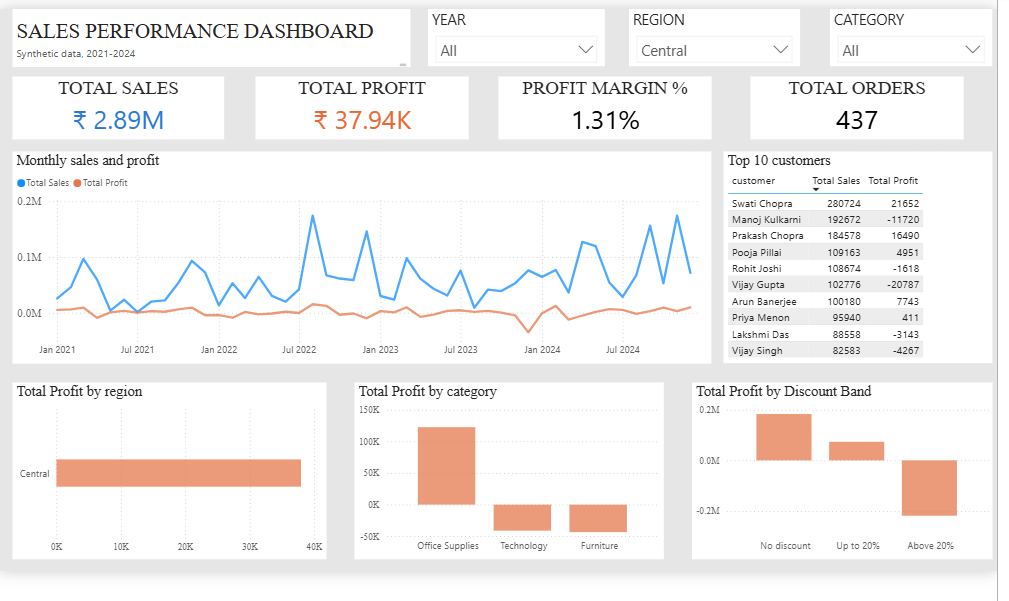

This screenshot's page, from the dashboard's own definition file:
{"tool":"powerbi","page":{"name":"Page 1","canvas":[1280,720],"ordinal":0},"visuals":[{"type":"card","title":"TOTAL SALES","fields":{"Values":["superstore_clean.Total Sales"]},"box":[17.3,86.5,271.2,80.8],"z":0},{"type":"card","title":"TOTAL PROFIT","fields":{"Values":["superstore_clean.Total Profit"]},"box":[328.8,86.5,273.1,80.8],"z":1000},{"type":"card","title":"PROFIT MARGIN %","fields":{"Values":["superstore_clean.Profit Margin %"]},"box":[640.4,86.5,273.1,80.8],"z":2000},{"type":"card","title":"TOTAL ORDERS","fields":{"Values":["superstore_clean.Total Orders"]},"box":[963.5,86.5,273.1,80.8],"z":3000},{"type":"textbox","title":"SALES PERFORMANCE DASHBOARD","box":[17.3,0,509.6,73.1],"z":4000},{"type":"lineChart","title":"Monthly sales and profit","fields":{"Y":["superstore_clean.Total Sales","superstore_clean.Total Profit"],"Category":["superstore_clean.month.Variation.Date Hierarchy.Year","superstore_clean.month.Variation.Date Hierarchy.Quarter","superstore_clean.month.Variation.Date Hierarchy.Month","superstore_clean.month.Variation.Date Hierarchy.Day"]},"box":[17,183.3,895.8,272.1],"z":5000},{"type":"clusteredBarChart","fields":{"Category":["superstore_clean.region"],"Y":["superstore_clean.Total Profit"]},"box":[17,478.1,402.5,226.8],"z":6000},{"type":"clusteredColumnChart","fields":{"Category":["superstore_clean.category"],"Y":["superstore_clean.Total Profit"]},"box":[455.4,478.1,396.9,226.8],"z":7000},{"type":"clusteredColumnChart","fields":{"Category":["superstore_clean.Discount Band"],"Y":["superstore_clean.Total Profit"]},"box":[888.2,478.1,385.5,226.8],"z":8000},{"type":"tableEx","title":"Top 10 customers","fields":{"Values":["superstore_clean.customer_name","superstore_clean.Total Sales","superstore_clean.Total Profit"]},"box":[928.2,183,344.7,271.5],"z":9000},{"type":"slicer","title":"YEAR","fields":{"Values":["superstore_clean.year"]},"box":[550,0,226.9,73.1],"z":10000},{"type":"slicer","title":"REGION","fields":{"Values":["superstore_clean.region"]},"box":[807.7,0,219.2,73.1],"z":12001},{"type":"slicer","title":"CATEGORY","fields":{"Values":["superstore_clean.category"]},"box":[1065.4,0,207.7,73.1],"z":12002}]}

Visuals, with their boxes in screenshot pixels (x1, y1, x2, y2):
"TOTAL SALES" card: (16, 88, 227, 151)
"TOTAL PROFIT" card: (258, 88, 471, 151)
"PROFIT MARGIN %" card: (500, 88, 713, 151)
"TOTAL ORDERS" card: (752, 88, 964, 151)
"SALES PERFORMANCE DASHBOARD" textbox: (16, 21, 412, 78)
"Monthly sales and profit" lineChart: (16, 164, 712, 375)
clusteredBarChart - superstore_clean.region x superstore_clean.Total Profit: (16, 393, 329, 569)
clusteredColumnChart - superstore_clean.category x superstore_clean.Total Profit: (357, 393, 665, 569)
clusteredColumnChart - superstore_clean.Discount Band x superstore_clean.Total Profit: (693, 393, 993, 569)
"Top 10 customers" tableEx: (724, 163, 992, 374)
"YEAR" slicer: (430, 21, 607, 78)
"REGION" slicer: (631, 21, 801, 78)
"CATEGORY" slicer: (831, 21, 992, 78)
